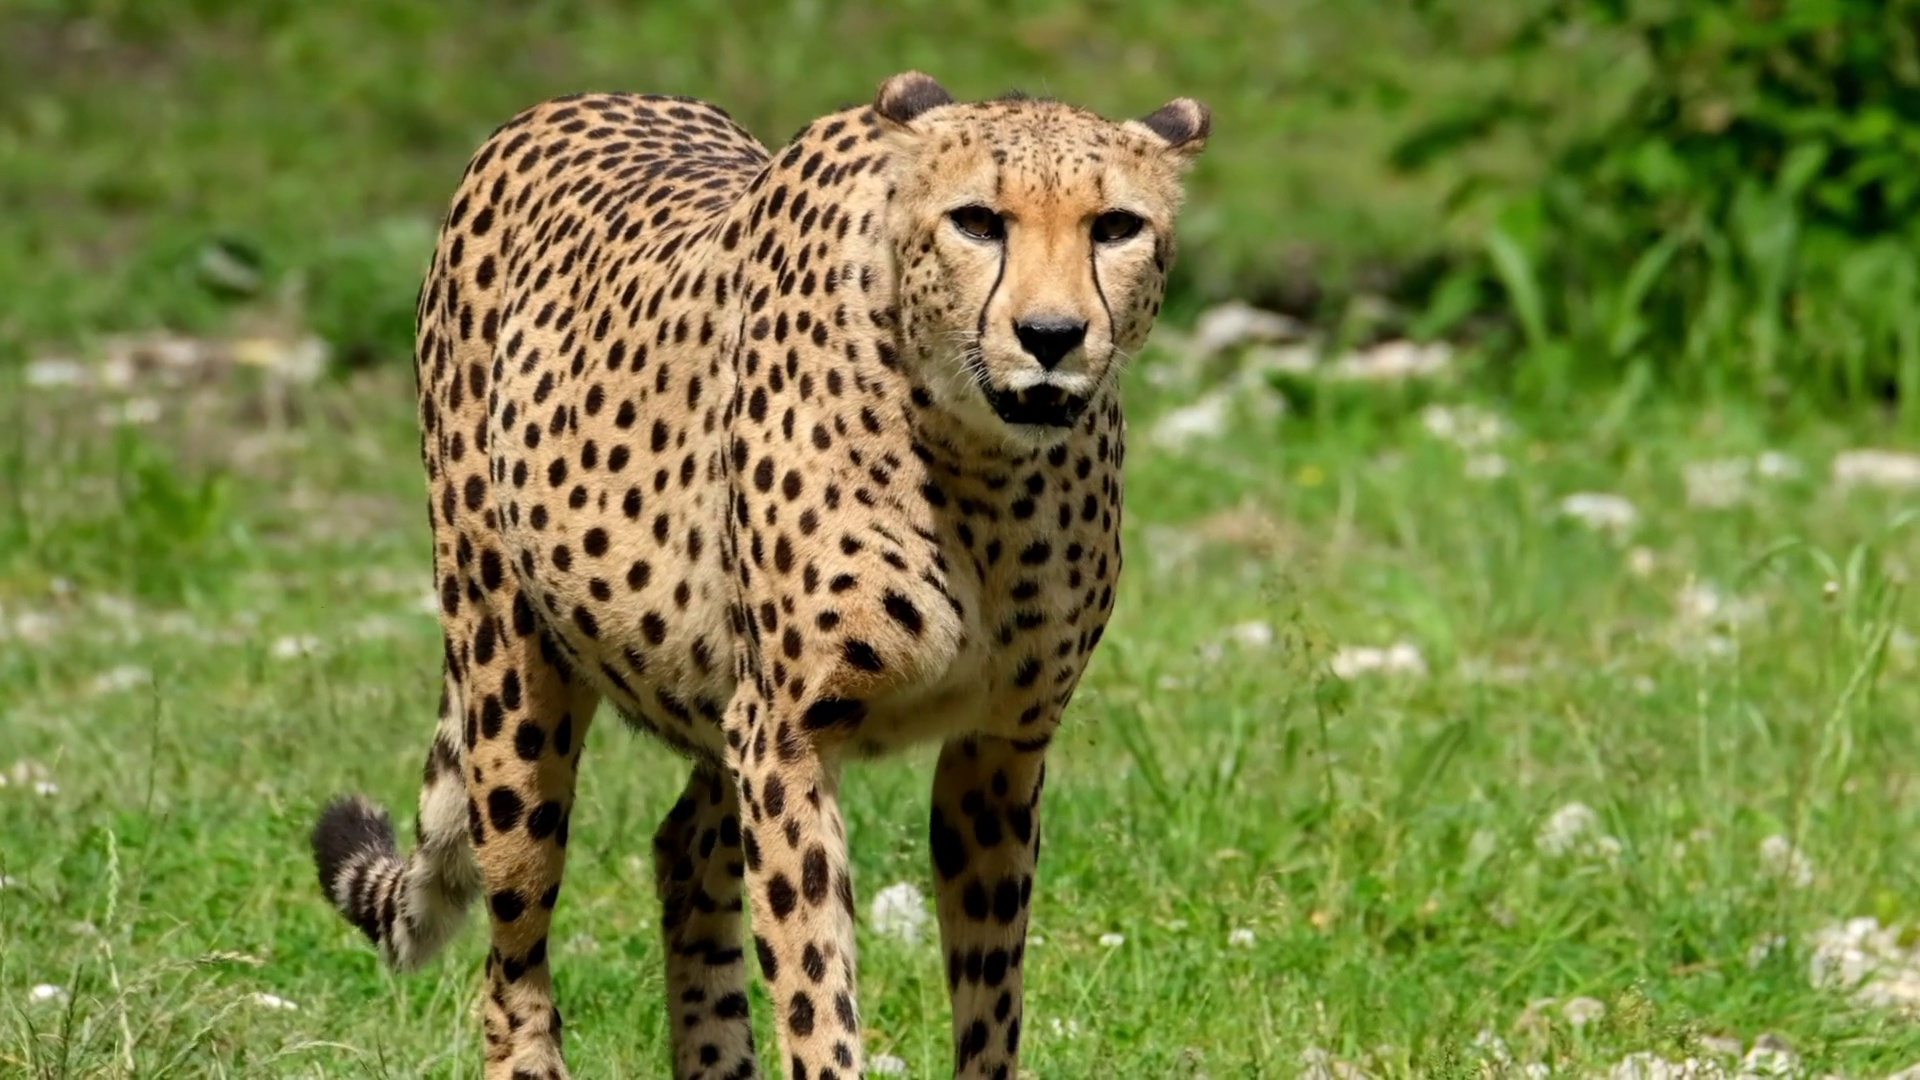Cheetah: (310, 59, 1215, 1080)
